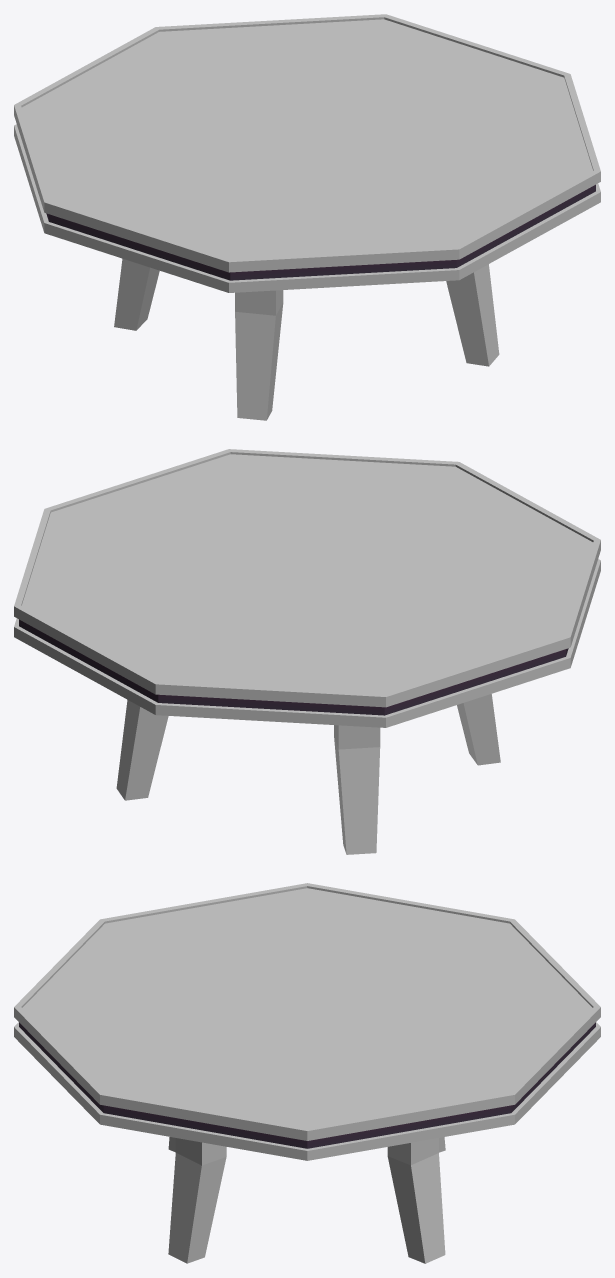
Rendered from Interior_CoffeeTable_Wood.fbx.
3 renders of one model, top to bottom at view 1: azimuth 30°, elevation 25°; view 2: azimuth 150°, elevation 25°; view 3: azimuth 270°, elevation 25°, orthographic. The views are drawn at different scales.
Visible parts, largest first — view 1: Table_Round.001; view 2: Table_Round.001; view 3: Table_Round.001.
Boxes of the visible parts, x1=… form: Table_Round.001: x1=14, y1=14, x2=600, y2=420; Table_Round.001: x1=14, y1=449, x2=600, y2=854; Table_Round.001: x1=14, y1=883, x2=600, y2=1263.
Bounding box in the file's own units: 106 × 38.97 × 106.
